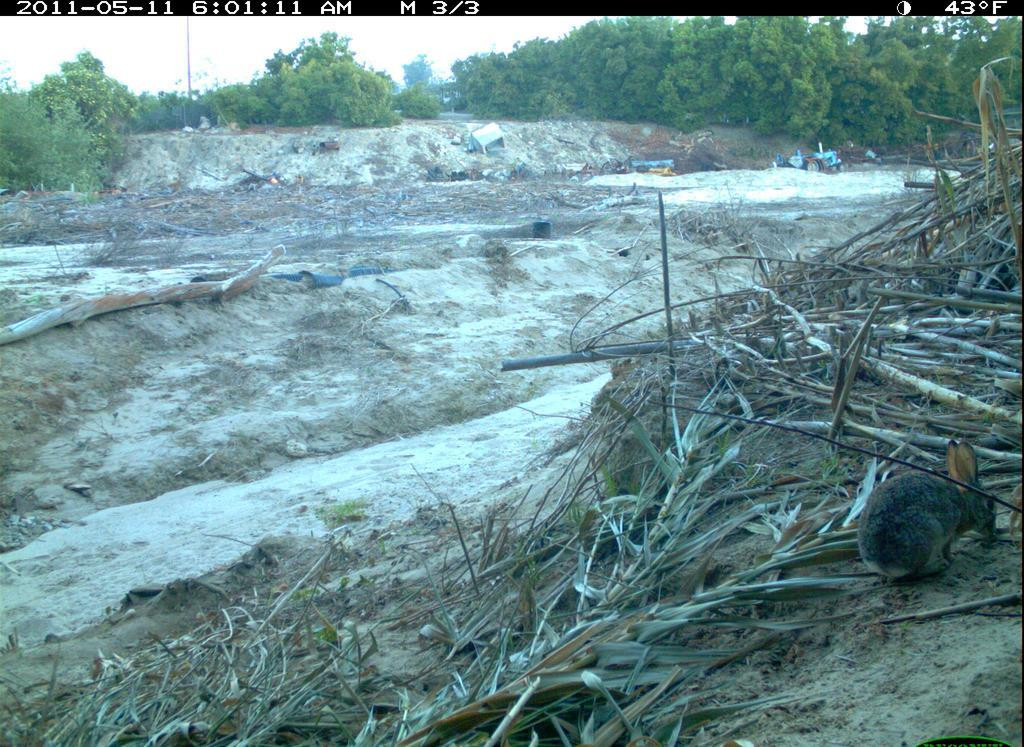rabbit: (854, 432, 1010, 598)
